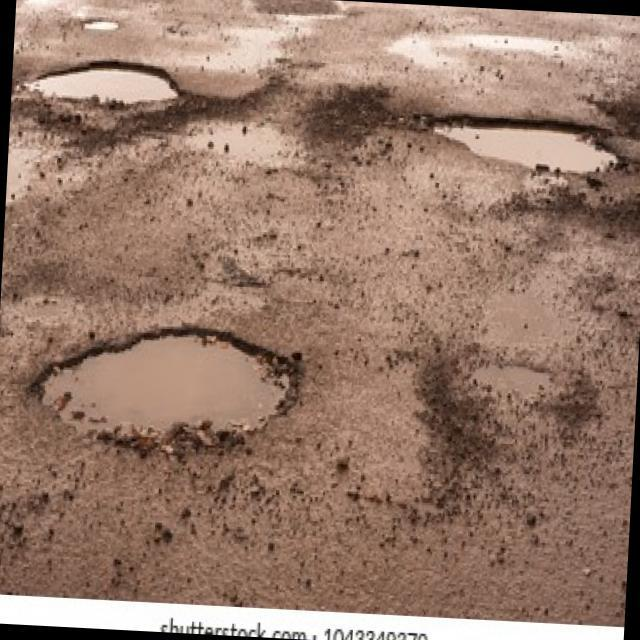Pothole: (26, 322, 302, 457), (422, 112, 630, 181), (21, 55, 182, 109), (82, 16, 118, 32)
